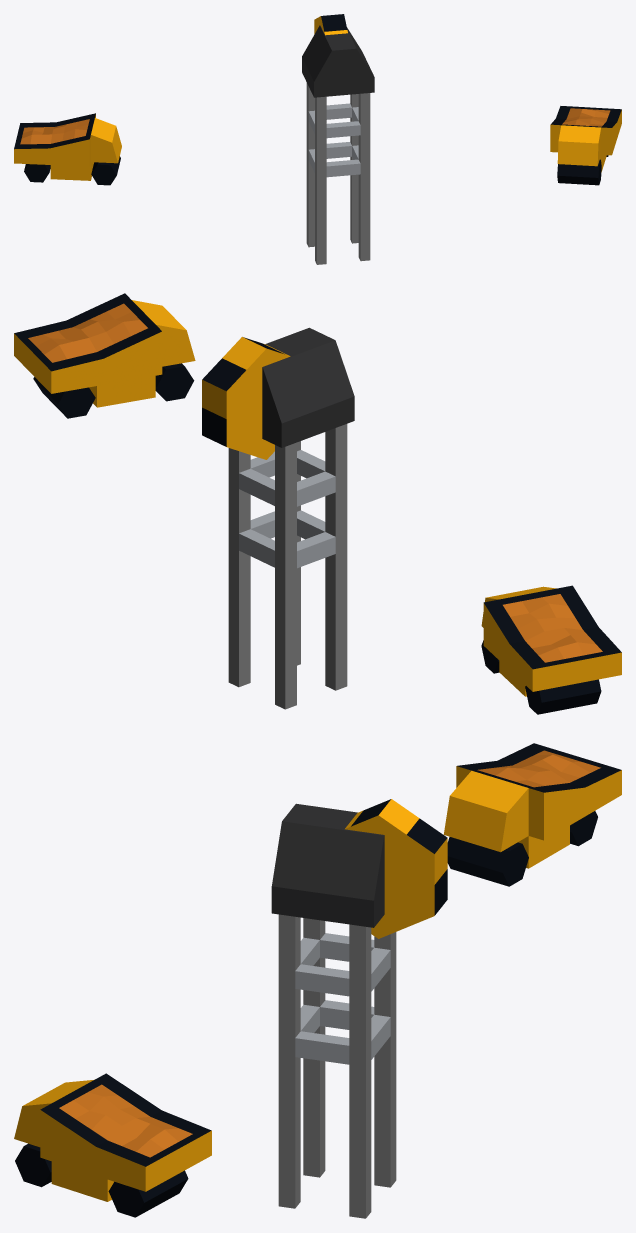
File: Border_8_exploring.fbx
3 views of the same model, one above another, from view 1: azimuth 30°, elevation 25°; view 2: azimuth 150°, elevation 25°; view 3: azimuth 270°, elevation 25° (orthographic). The views are drawn at different scales.
Visible parts, largest first — view 1: Cube.017, Cube.018, Cube.019, Cylinder.008; view 2: Cube.017, Cube.019, Cube.018, Cylinder.008; view 3: Cube.017, Cube.019, Cube.018, Cylinder.008.
Part boxes in pixels (left/top/right/bottom): Cube.017: left=302, top=25, right=374, bottom=264; Cube.018: left=14, top=113, right=121, bottom=185; Cube.019: left=550, top=106, right=621, bottom=185; Cylinder.008: left=314, top=14, right=347, bottom=35; Cube.017: left=228, top=327, right=354, bottom=709; Cube.019: left=14, top=293, right=195, bottom=418; Cube.018: left=481, top=585, right=621, bottom=714; Cylinder.008: left=202, top=337, right=290, bottom=459; Cube.017: left=271, top=803, right=396, bottom=1218; Cube.019: left=14, top=1073, right=211, bottom=1217; Cube.018: left=443, top=743, right=621, bottom=886; Cylinder.008: left=345, top=799, right=447, bottom=938.
Bounding box in the file's own units: 364 × 158 × 221.
